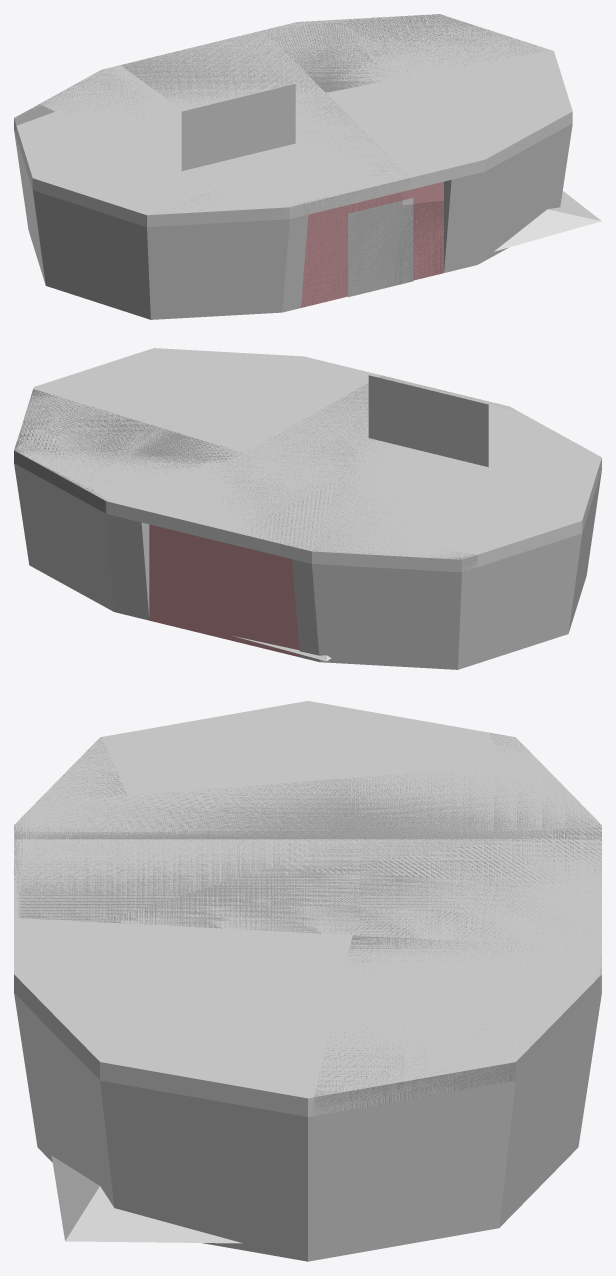
The model's file is bld_diner_a.glb.
3 renders of one model, top to bottom at view 1: azimuth 30°, elevation 25°; view 2: azimuth 150°, elevation 25°; view 3: azimuth 270°, elevation 25°, orthographic. The views are drawn at different scales.
Parts seen in each view (by area): view 1: intact, chunk_00, damaged, chunk_02, chunk_01, chunk_03, chunk_05, chunk_04, rubble; view 2: intact, damaged, chunk_03, chunk_04, chunk_05, chunk_00, chunk_02, chunk_01; view 3: chunk_02, intact, damaged, chunk_05, chunk_01, chunk_00, chunk_03, chunk_04, rubble.
Part boxes in pixels (x1=…): intact: x1=14, y1=14, x2=572, y2=306; chunk_00: x1=28, y1=125, x2=308, y2=319; damaged: x1=14, y1=14, x2=543, y2=307; chunk_02: x1=344, y1=42, x2=572, y2=272; chunk_01: x1=245, y1=89, x2=451, y2=307; chunk_03: x1=14, y1=65, x2=182, y2=269; chunk_05: x1=264, y1=14, x2=524, y2=85; chunk_04: x1=133, y1=30, x2=331, y2=110; rubble: x1=494, y1=191, x2=601, y2=251; intact: x1=14, y1=348, x2=601, y2=571; damaged: x1=14, y1=375, x2=515, y2=657; chunk_03: x1=292, y1=487, x2=551, y2=669; chunk_04: x1=141, y1=456, x2=372, y2=656; chunk_05: x1=14, y1=403, x2=206, y2=620; chunk_00: x1=374, y1=402, x2=601, y2=643; chunk_02: x1=29, y1=348, x2=337, y2=445; chunk_01: x1=230, y1=365, x2=489, y2=486; chunk_02: x1=14, y1=948, x2=359, y2=1261; intact: x1=14, y1=701, x2=601, y2=1116; damaged: x1=14, y1=733, x2=601, y2=1115; chunk_05: x1=360, y1=948, x2=601, y2=1252; chunk_01: x1=14, y1=839, x2=359, y2=948; chunk_00: x1=14, y1=701, x2=359, y2=838; chunk_03: x1=360, y1=710, x2=601, y2=833; chunk_04: x1=360, y1=839, x2=601, y2=948; rubble: x1=51, y1=1156, x2=242, y2=1243.
Bounding box in the file's own units: 16 × 5 × 10.
